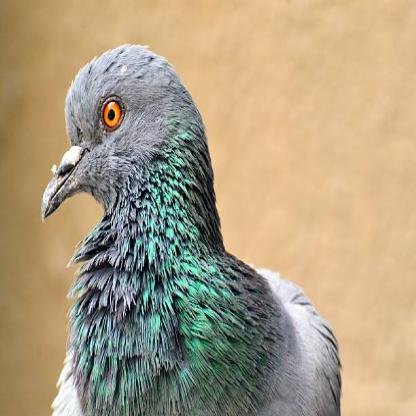Rock Pigeon: (48, 42, 341, 416)
